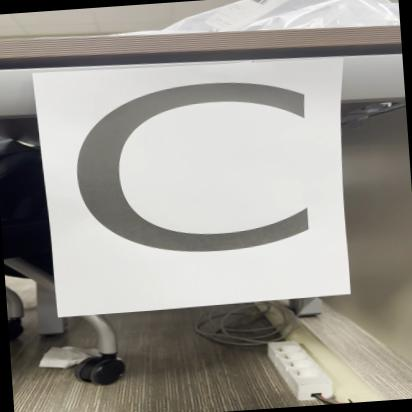seat: (42, 53, 358, 315)
